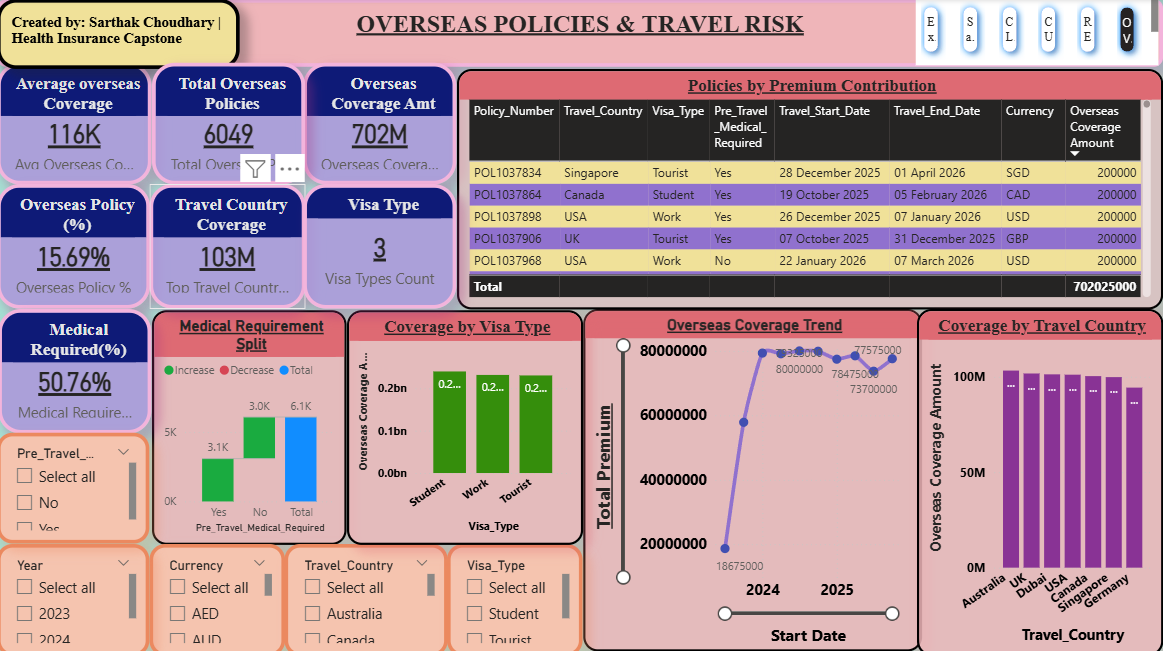

Layout of this report page (visuals, bound fields, positions):
{"tool":"powerbi","page":{"name":"OVERSEAS POLICIES & TRAVEL RISK","canvas":[1280,720],"ordinal":5},"visuals":[{"type":"textbox","box":[0,0,1280.3,74.1],"z":0},{"type":"card","title":"Overseas Coverage Amt","fields":{"Values":["All Measures.Overseas Coverage Amount"]},"box":[336.8,69.8,168.4,133.5],"z":1000},{"type":"card","title":"Average overseas Coverage","fields":{"Values":["All Measures.Avg Overseas Coverage"]},"box":[0,69.8,169.9,133.5],"z":2000},{"type":"card","title":"Overseas Policy (%)","fields":{"Values":["All Measures.Overseas Policy %"]},"box":[0,203.3,168.4,136.5],"z":3000},{"type":"lineChart","title":"Overseas Coverage Trend","fields":{"Y":["All Measures.Overseas Coverage Amount"],"Category":["Date Table.Date.Variation.Date Hierarchy.Year","Date Table.Date.Variation.Date Hierarchy.Quarter","Date Table.Date.Variation.Date Hierarchy.Month","Date Table.Date.Variation.Date Hierarchy.Day"]},"box":[643.2,339.8,371.7,376.2],"z":4000},{"type":"waterfallChart","title":"Medical Requirement Split","fields":{"Category":["fact_overseas.Pre_Travel_Medical_Required"],"Y":["CountNonNull(fact_overseas.Policy_Number)"]},"box":[169.9,341.3,213.9,257.9],"z":5000},{"type":"slicer","fields":{"Values":["fact_overseas.Currency"]},"box":[166.9,597.7,148.7,122.9],"z":6000},{"type":"slicer","fields":{"Values":["fact_overseas.Travel_Country"]},"box":[315.5,597.7,179,122.9],"z":7000},{"type":"slicer","fields":{"Values":["fact_overseas.Visa_Type"]},"box":[494.5,597.7,148.7,122.9],"z":8000},{"type":"slicer","fields":{"Values":["Date Table.Year"]},"box":[0,597.7,166.9,122.9],"z":9000},{"type":"textbox","box":[0,0,266.8,76.8],"z":10000},{"type":"tableEx","title":"Policies by Premium Contribution","fields":{"Values":["fact_overseas.Policy_Number","fact_overseas.Travel_Country","fact_overseas.Visa_Type","fact_overseas.Pre_Travel_Medical_Required","fact_overseas.Travel_Start_Date","fact_overseas.Travel_End_Date","fact_overseas.Currency","All Measures.Overseas Coverage Amount"]},"box":[505.1,77.4,775.2,263.9],"z":11000},{"type":"card","title":"Total Overseas Policies","fields":{"Values":["All Measures.Total Overseas Policies"]},"box":[169.9,69.8,168.4,133.5],"z":12000},{"type":"pageNavigator","box":[1009.2,0,266.8,72.5],"z":13000},{"type":"columnChart","title":"Coverage by Visa Type","fields":{"Y":["All Measures.Overseas Coverage Amount"],"Category":["fact_overseas.Visa_Type"]},"box":[383.8,341.3,259.4,257.9],"z":14000},{"type":"card","title":" Travel Country Coverage","fields":{"Values":["All Measures.Top Travel Country Coverage"]},"box":[166.9,203.3,171.4,136.5],"z":15000},{"type":"card","title":"Visa Type","fields":{"Values":["All Measures.Visa Types Count"]},"box":[336.8,203.3,168.4,136.5],"z":16000},{"type":"card","title":"Medical Required(%)","fields":{"Values":["All Measures.Medical Required %"]},"box":[1.5,339.8,168.4,136.5],"z":17000},{"type":"slicer","fields":{"Values":["fact_overseas.Pre_Travel_Medical_Required"]},"box":[0,476.3,166.9,121.4],"z":18000},{"type":"columnChart","title":"Coverage by Travel Country","fields":{"Y":["All Measures.Overseas Coverage Amount"],"Category":["fact_overseas.Travel_Country"]},"box":[1010.3,339.8,270,380.8],"z":19000}]}

Visuals, with their boxes in screenshot pixels (x1, y1, x2, y2), scaled from the page's 1280x720 canvas onto the 1163x651 screenshot:
textbox: 0:0:1162:67
"Overseas Coverage Amt" card: 306:63:459:184
"Average overseas Coverage" card: 0:63:154:184
"Overseas Policy (%)" card: 0:184:153:307
"Overseas Coverage Trend" lineChart: 584:307:922:647
"Medical Requirement Split" waterfallChart: 154:309:349:542
slicer - fact_overseas.Currency: 152:540:287:650
slicer - fact_overseas.Travel_Country: 287:540:449:650
slicer - fact_overseas.Visa_Type: 449:540:584:650
slicer - Date Table.Year: 0:540:152:650
textbox: 0:0:242:69
"Policies by Premium Contribution" tableEx: 459:70:1162:309
"Total Overseas Policies" card: 154:63:307:184
pageNavigator: 917:0:1159:66
"Coverage by Visa Type" columnChart: 349:309:584:542
" Travel Country Coverage" card: 152:184:307:307
"Visa Type" card: 306:184:459:307
"Medical Required(%)" card: 1:307:154:431
slicer - fact_overseas.Pre_Travel_Medical_Required: 0:431:152:540
"Coverage by Travel Country" columnChart: 918:307:1162:650
